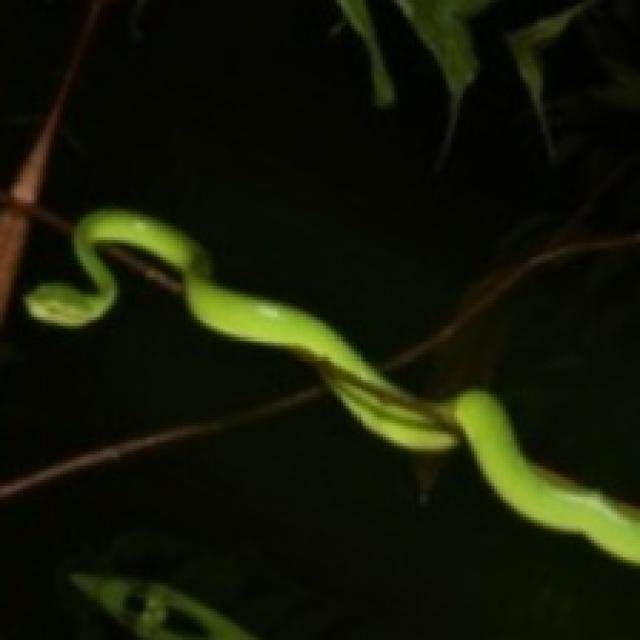north ph temple pitviper: (26, 209, 637, 563)
